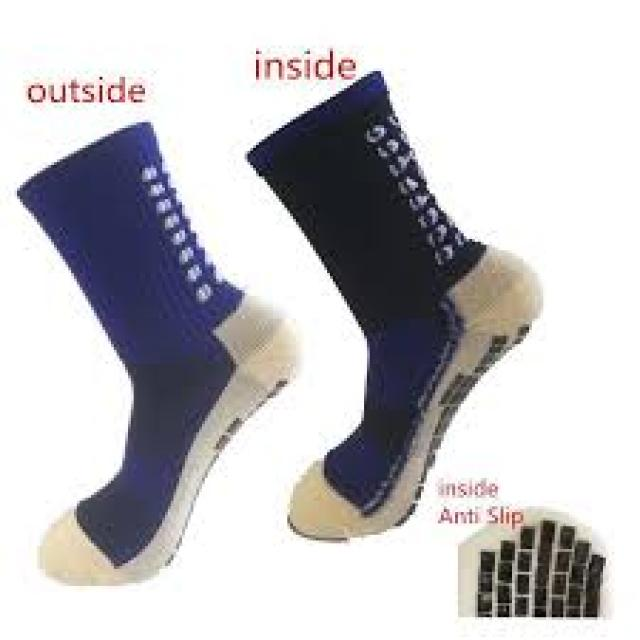sock: (245, 68, 543, 540), (14, 117, 299, 586)
